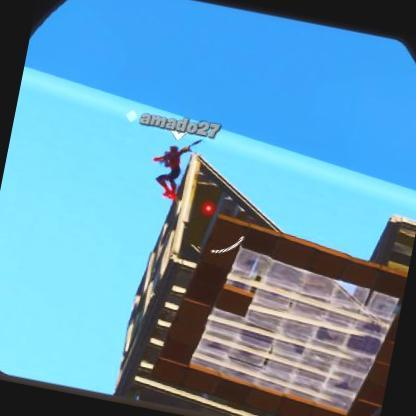person: (147, 140, 194, 197)
